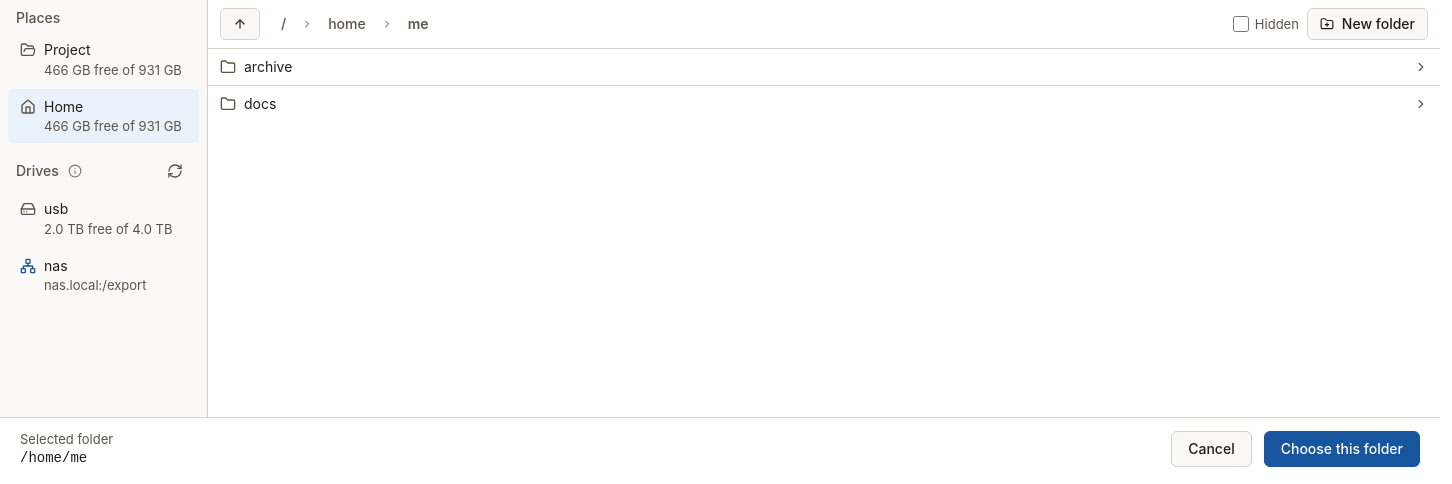
Test: FolderBrowser › jumps to a drive, including a network drive
Expected: the text "archive" is shown, 244,57 -> 292,77
Click the button "nas nas.local:/export" at (104, 275), box 8,248 -> 199,302
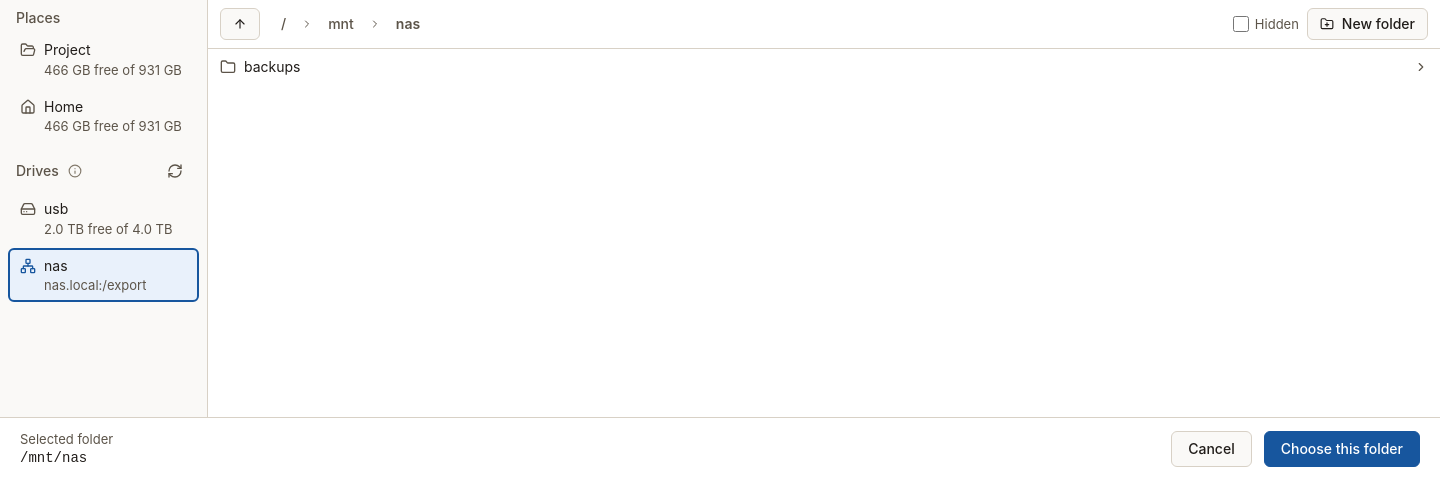
Now the text "backups" is shown, box 244,57 -> 300,77
